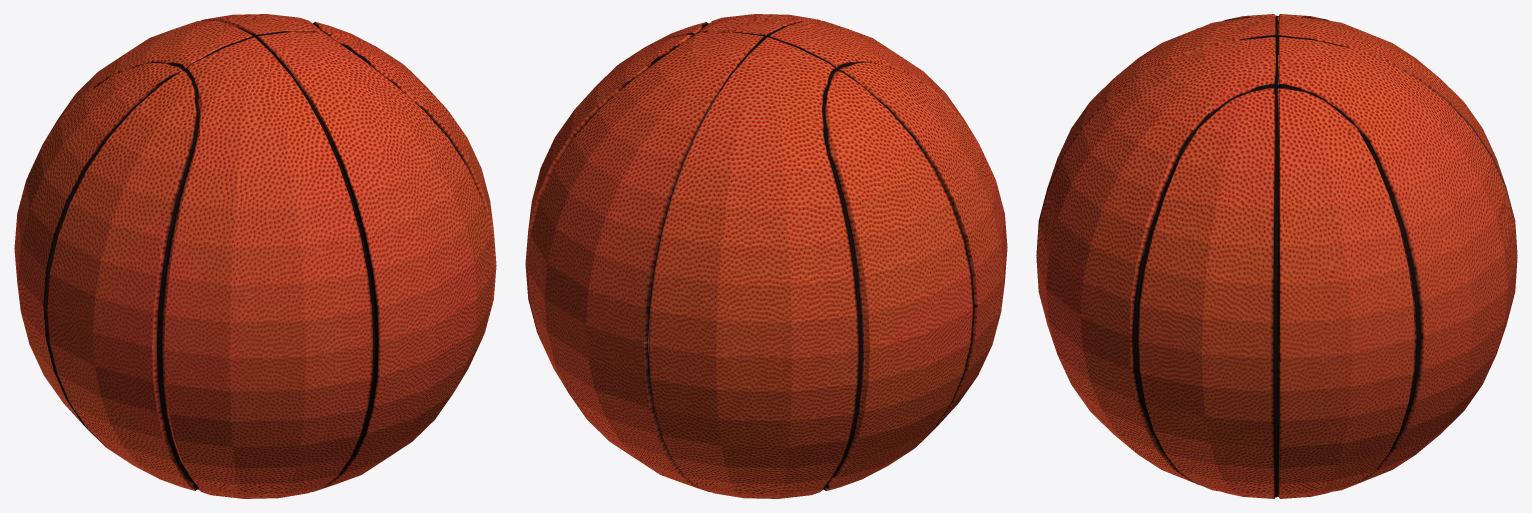
Rendered from basketball2.fbx.
3 renders of one model, left to right at view 1: azimuth 30°, elevation 25°; view 2: azimuth 150°, elevation 25°; view 3: azimuth 270°, elevation 25°, orthographic.
Visible parts, largest first — view 1: basketball; view 2: basketball; view 3: basketball.
Boxes of the visible parts, <box> form: basketball: <box>14,14,496,498</box>; basketball: <box>525,14,1007,498</box>; basketball: <box>1036,14,1517,498</box>.
Bounding box in the file's own units: 25.48 × 25.65 × 25.32.
Materials: 1 (1 with a texture image).
